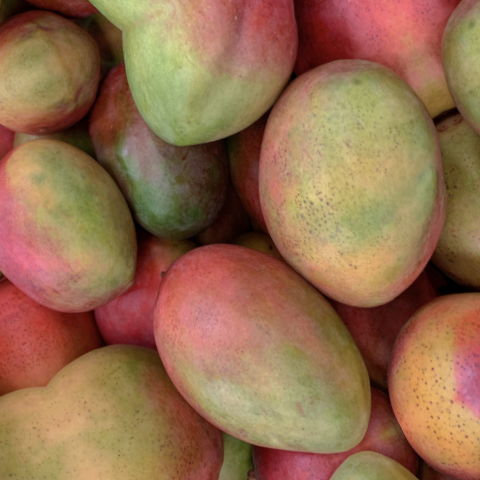mango: (75, 164, 429, 480), (202, 19, 480, 342), (85, 0, 340, 182), (0, 118, 172, 345)
